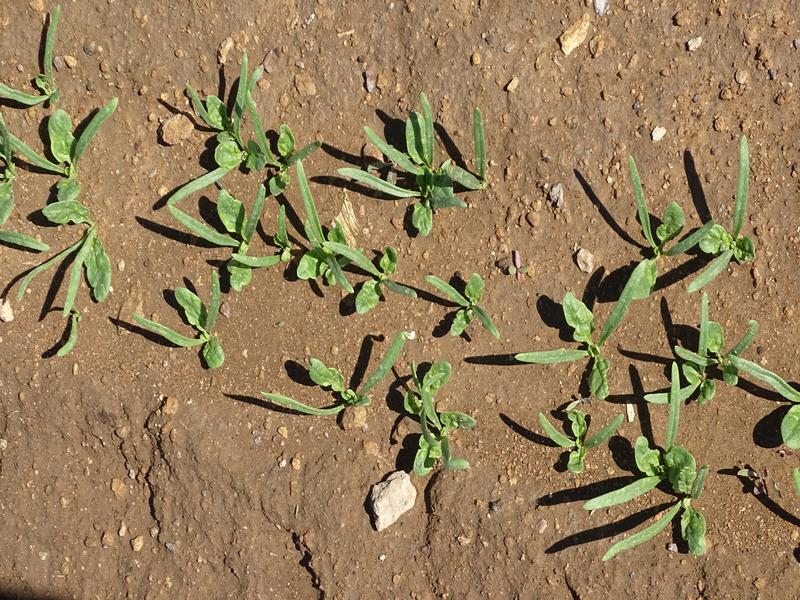Espinaca: (148, 61, 512, 472), (541, 118, 760, 557), (1, 8, 117, 353)
